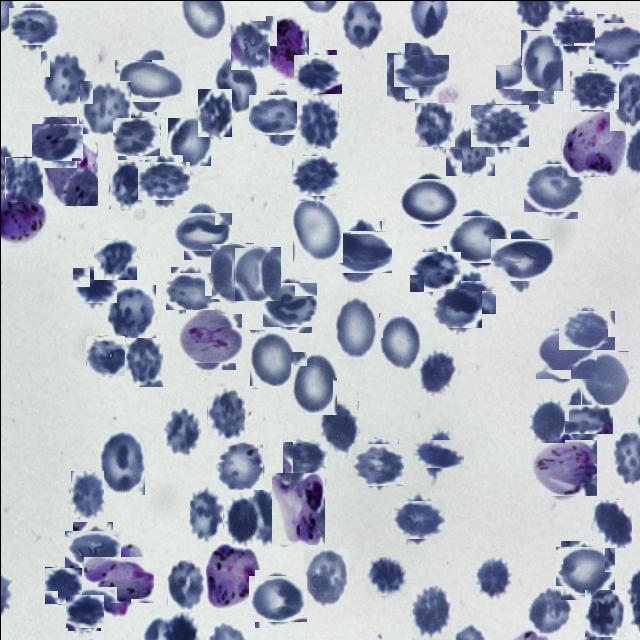difficult: (42, 133, 97, 205)
gametocyte: (264, 14, 308, 79)
red blood cell: (292, 199, 342, 262), (450, 210, 506, 266), (120, 53, 176, 109), (538, 326, 592, 382), (289, 350, 336, 414), (526, 160, 580, 215), (98, 430, 144, 494), (494, 232, 548, 286), (558, 542, 612, 596), (78, 79, 130, 134), (332, 294, 376, 358), (248, 328, 294, 388), (403, 174, 455, 227), (334, 225, 386, 278), (252, 572, 304, 624), (580, 350, 628, 406), (303, 548, 348, 606), (40, 49, 86, 105), (520, 29, 562, 90), (214, 56, 258, 114), (253, 89, 303, 140), (107, 284, 155, 337), (210, 242, 253, 301), (474, 100, 524, 150), (233, 247, 280, 300), (264, 280, 314, 329), (444, 126, 494, 175), (378, 312, 420, 370), (499, 59, 548, 108), (592, 17, 640, 67), (526, 585, 574, 634), (68, 525, 116, 573), (562, 305, 610, 353), (178, 207, 226, 254), (353, 441, 401, 488), (216, 441, 263, 489), (410, 584, 450, 639), (296, 96, 338, 148), (394, 496, 440, 542), (292, 152, 338, 198), (140, 158, 186, 204), (411, 248, 457, 294), (558, 396, 604, 442), (167, 117, 210, 165), (320, 400, 358, 454), (124, 332, 162, 386), (166, 559, 205, 611), (294, 51, 338, 96), (35, 119, 79, 164), (10, 3, 54, 48), (584, 590, 625, 638), (386, 52, 426, 101), (206, 387, 244, 438), (572, 68, 616, 112), (434, 286, 478, 330), (114, 114, 158, 158), (398, 48, 442, 92), (230, 20, 269, 69), (168, 269, 212, 312), (447, 275, 491, 318), (592, 499, 631, 547), (417, 346, 455, 395), (108, 160, 146, 208), (163, 406, 200, 455), (414, 102, 454, 146), (188, 488, 222, 539), (93, 239, 136, 279), (4, 156, 42, 201), (224, 496, 259, 543), (284, 438, 324, 479), (197, 88, 231, 136), (85, 336, 125, 376), (475, 556, 515, 596), (74, 264, 114, 304), (418, 432, 458, 472), (365, 556, 406, 595), (70, 470, 103, 516), (531, 399, 564, 442), (555, 10, 592, 48), (44, 566, 80, 604), (66, 592, 102, 628)
ring: (89, 550, 148, 608)
trophozoite: (560, 110, 625, 176), (271, 472, 324, 544), (532, 437, 594, 498), (204, 542, 258, 609), (182, 309, 238, 366)
